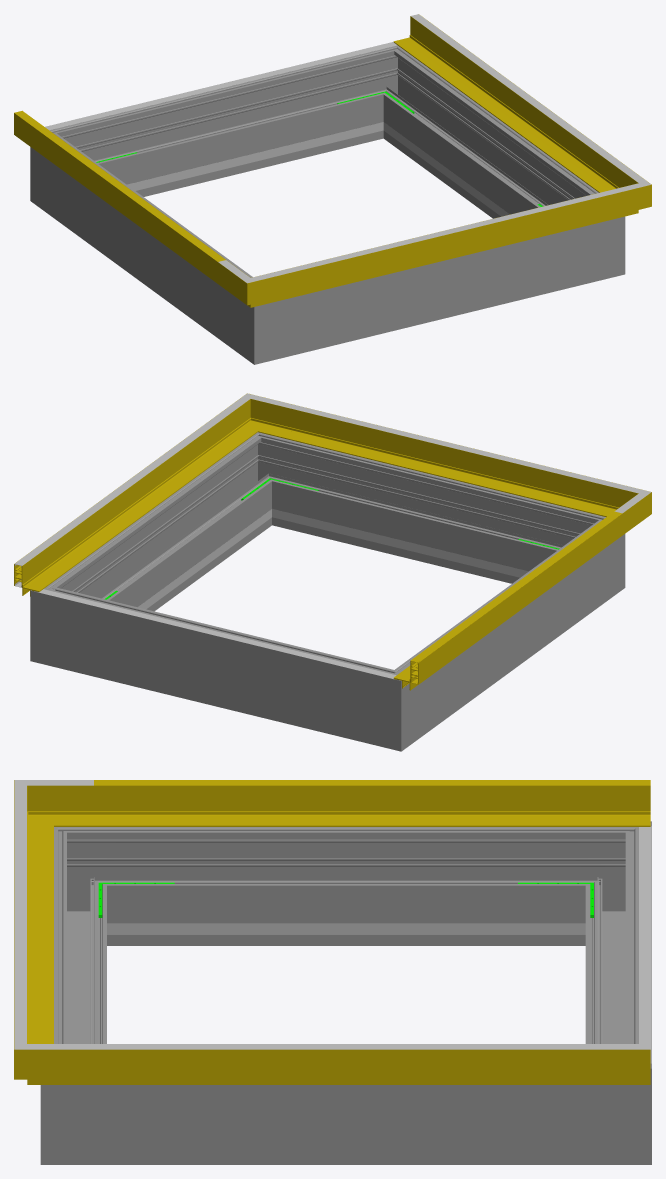
3 renders of one model, top to bottom at view 1: azimuth 30°, elevation 25°; view 2: azimuth 150°, elevation 25°; view 3: azimuth 270°, elevation 25°, orthographic. The views are drawn at different scales.
Visible parts, largest first — view 1: 3DGeom-30, 3DGeom-20, 3DGeom-13, 3DGeom-28, 3DGeom-90, 3DGeom-88, 3DGeom-82, 3DGeom-6, 3DGeom-22, 3DGeom-14, 3DGeom-32, 3DGeom-84 (+8 smaller); view 2: 3DGeom-20, 3DGeom-30, 3DGeom-13, 3DGeom-88, 3DGeom-28, 3DGeom-90, 3DGeom-32, 3DGeom-82, 3DGeom-22, 3DGeom-14, 3DGeom-6, 3DGeom-92 (+8 smaller); view 3: 3DGeom-28, 3DGeom-13, 3DGeom-82, 3DGeom-90, 3DGeom-30, 3DGeom-20, 3DGeom-14, 3DGeom-22, 3DGeom-88, 3DGeom-32, 3DGeom-6, 3DGeom-305 (+10 smaller).
Boxes of the visible parts, x1,y1,x2,y2 form: 3DGeom-30: [85, 55, 374, 196]; 3DGeom-20: [305, 229, 574, 352]; 3DGeom-13: [388, 63, 587, 218]; 3DGeom-28: [59, 148, 241, 342]; 3DGeom-90: [393, 16, 621, 190]; 3DGeom-88: [293, 194, 601, 297]; 3DGeom-82: [14, 113, 225, 283]; 3DGeom-6: [225, 269, 304, 364]; 3DGeom-22: [355, 45, 422, 141]; 3DGeom-14: [574, 184, 625, 286]; 3DGeom-32: [30, 121, 105, 221]; 3DGeom-84: [218, 260, 297, 307]; 3DGeom-20: [280, 442, 569, 583]; 3DGeom-30: [81, 596, 359, 739]; 3DGeom-13: [68, 450, 267, 611]; 3DGeom-88: [283, 407, 597, 512]; 3DGeom-28: [414, 534, 596, 729]; 3DGeom-90: [14, 415, 243, 596]; 3DGeom-32: [350, 655, 430, 751]; 3DGeom-82: [393, 512, 622, 690]; 3DGeom-22: [30, 571, 89, 673]; 3DGeom-14: [233, 432, 299, 528]; 3DGeom-6: [550, 508, 625, 608]; 3DGeom-92: [222, 393, 294, 442]; 3DGeom-28: [120, 827, 572, 945]; 3DGeom-13: [120, 1085, 572, 1164]; 3DGeom-82: [93, 785, 650, 826]; 3DGeom-90: [93, 1049, 650, 1084]; 3DGeom-30: [585, 855, 651, 1043]; 3DGeom-20: [54, 855, 106, 1043]; 3DGeom-14: [40, 1035, 120, 1164]; 3DGeom-22: [572, 1035, 651, 1164]; 3DGeom-88: [14, 814, 53, 1043]; 3DGeom-32: [572, 821, 651, 945]; 3DGeom-6: [54, 827, 120, 945]; 3DGeom-305: [184, 923, 508, 934].
Bounding box in the file's own units: 1.22 × 0.2669 × 1.22.
